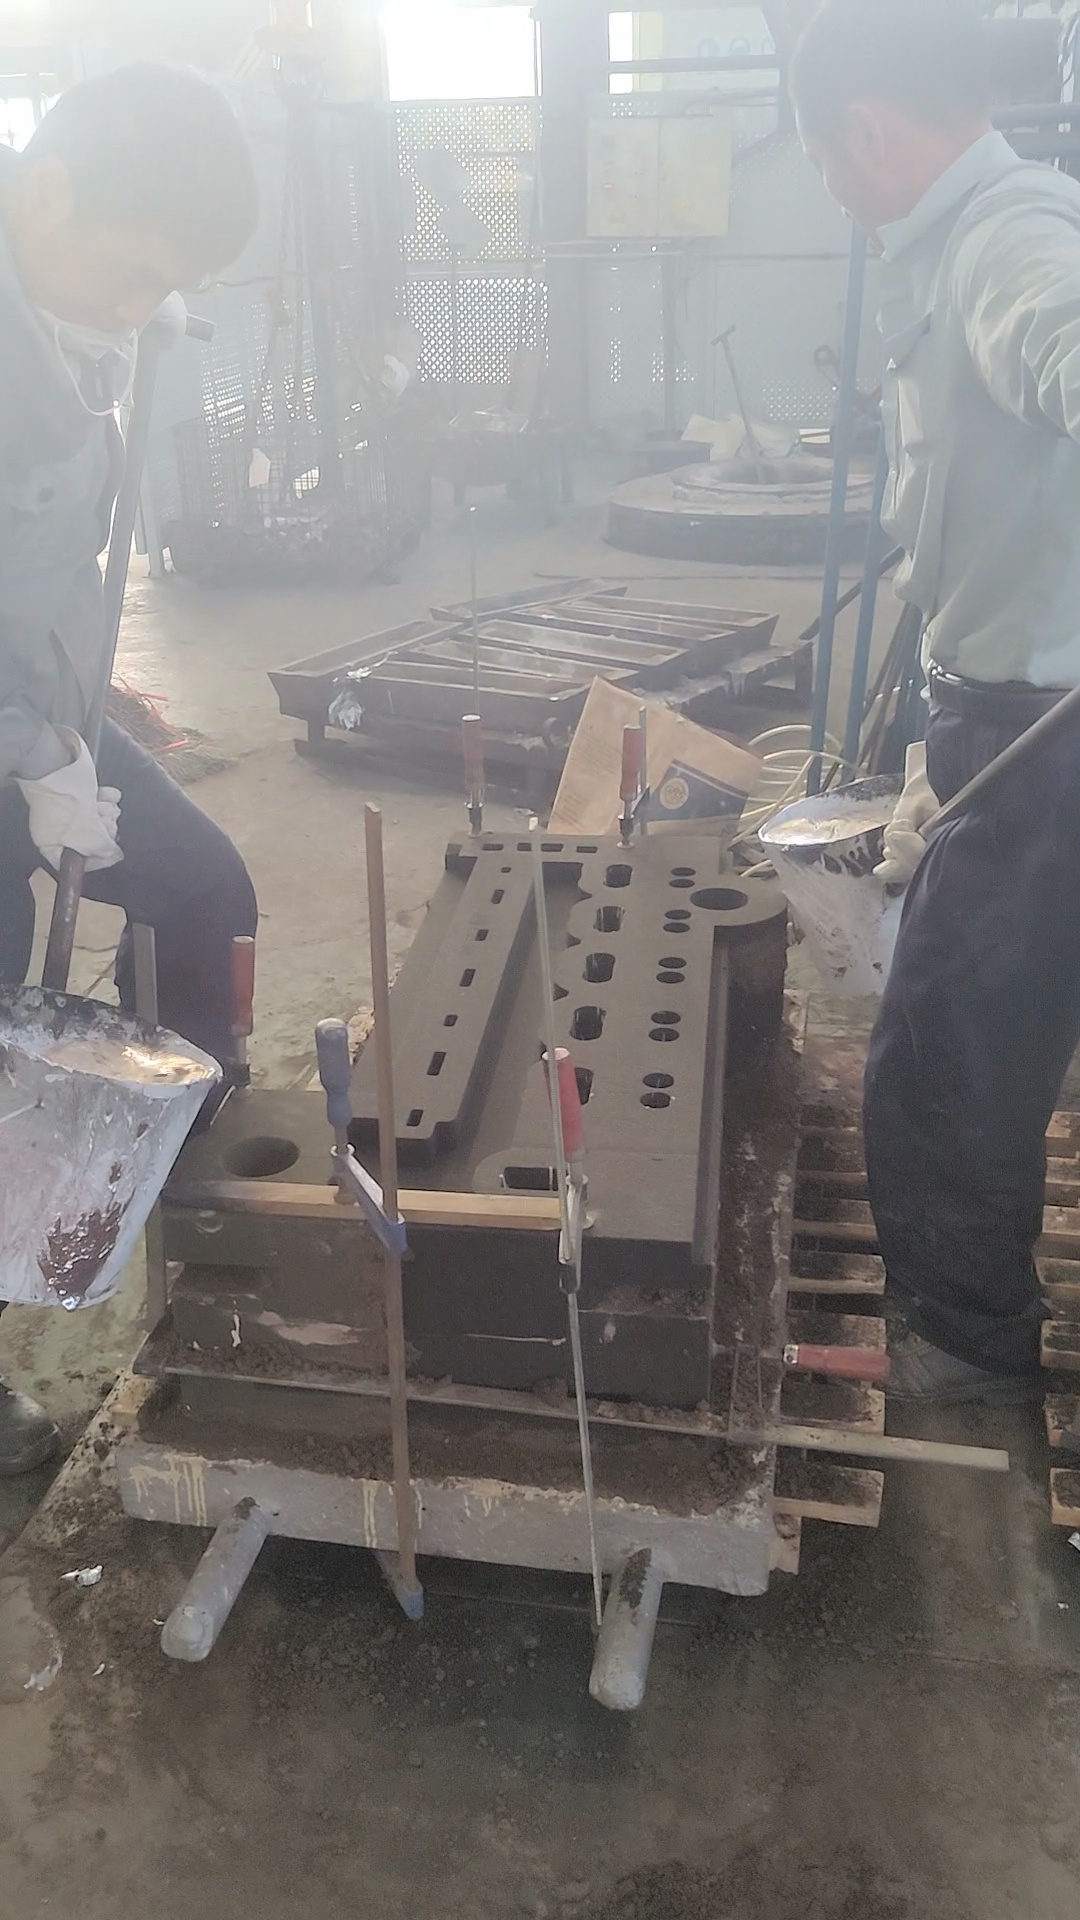pouring hole: (220, 1135, 299, 1178), (688, 886, 749, 910)
